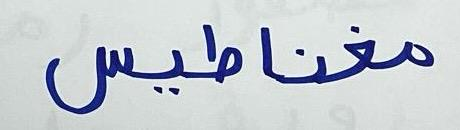alef: (258, 18, 283, 103)
ghain: (335, 23, 381, 79)
meem: (386, 39, 436, 70)
noon: (285, 44, 330, 90)
seen: (42, 29, 134, 118)
tah: (189, 11, 247, 99)
yeh: (136, 31, 187, 105)
